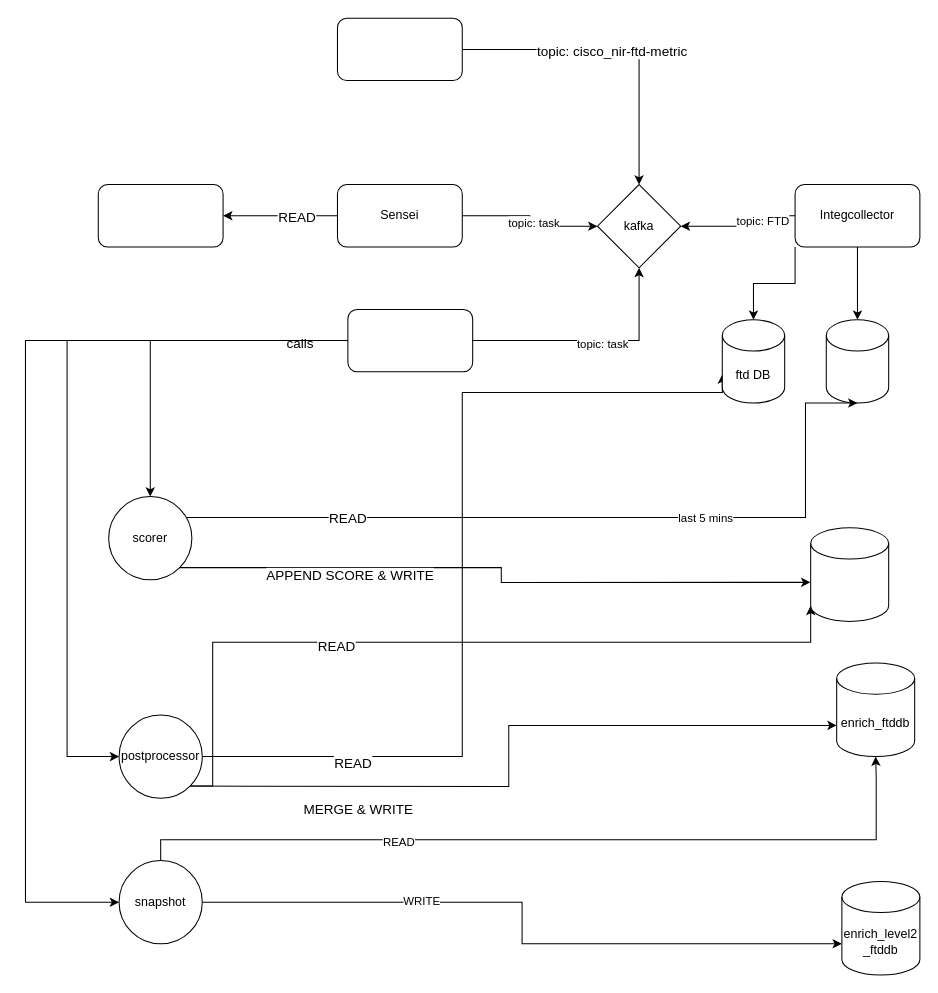
Image size: 938x993. Some labels were removed from this diagram. The shapes that lost their labels are listed below. From the top down, each one's box as (x1, y1, x2, y2) in pixels, then its label:
(336, 17, 462, 81): FTD
(97, 184, 223, 247): conf file (task metadata)
(347, 308, 473, 372): Genie
(825, 319, 889, 403): Anomaly DB
(810, 527, 889, 621): resourcescore DB
